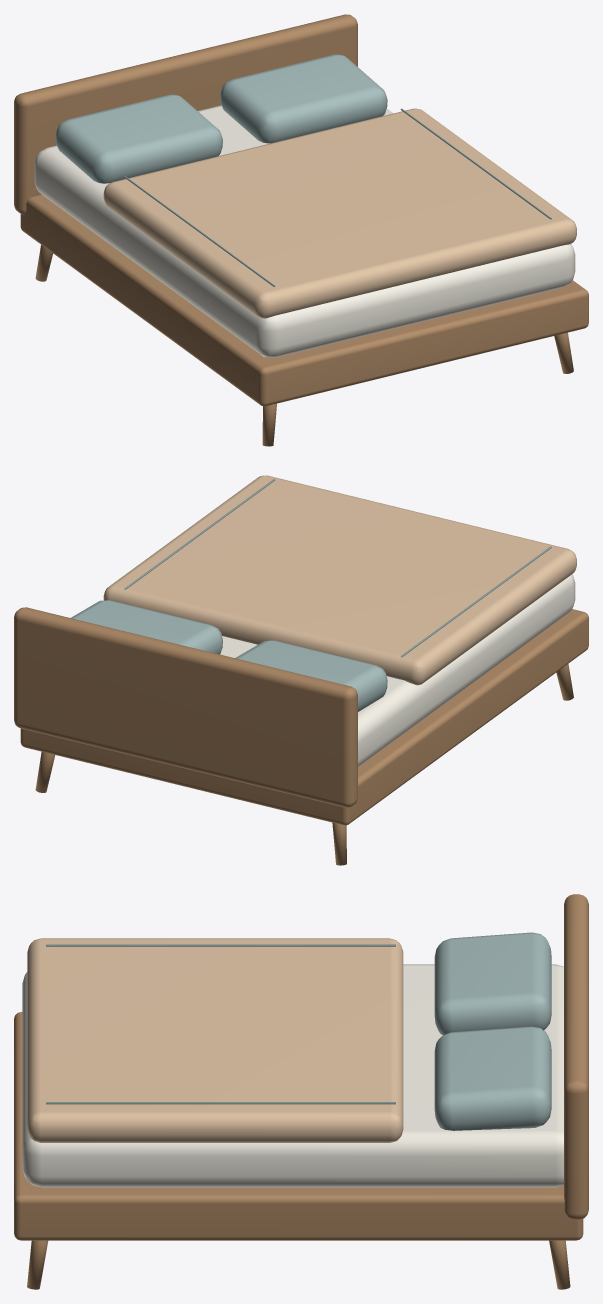
Rendered from atelier-platform-bed.glb.
The picture shows the model from 3 angles, top to bottom: view 1: azimuth 30°, elevation 25°; view 2: azimuth 150°, elevation 25°; view 3: azimuth 270°, elevation 25°; orthographic projection. The views are drawn at different scales.
Visible parts, largest first — view 1: bedding.013, legs.036, ceramic.013, fabric.039, seams.038; view 2: legs.036, bedding.013, ceramic.013, fabric.039, seams.038; view 3: bedding.013, legs.036, ceramic.013, fabric.039, seams.038.
Boxes of the visible parts, x1,y1,x2,y2 form: bedding.013: (103, 108, 576, 318); legs.036: (14, 14, 588, 446); ceramic.013: (34, 105, 575, 357); fabric.039: (55, 54, 387, 183); seams.038: (124, 108, 551, 287); legs.036: (14, 607, 588, 865); bedding.013: (103, 475, 576, 685); ceramic.013: (220, 574, 575, 766); fabric.039: (71, 600, 387, 711); seams.038: (124, 479, 551, 657); bedding.013: (27, 938, 403, 1142); legs.036: (14, 894, 588, 1289); ceramic.013: (22, 964, 563, 1187); fabric.039: (434, 932, 551, 1130); seams.038: (46, 944, 395, 1104).
Size of the model in its own units: 1.65 by 0.8545 by 2.07.
